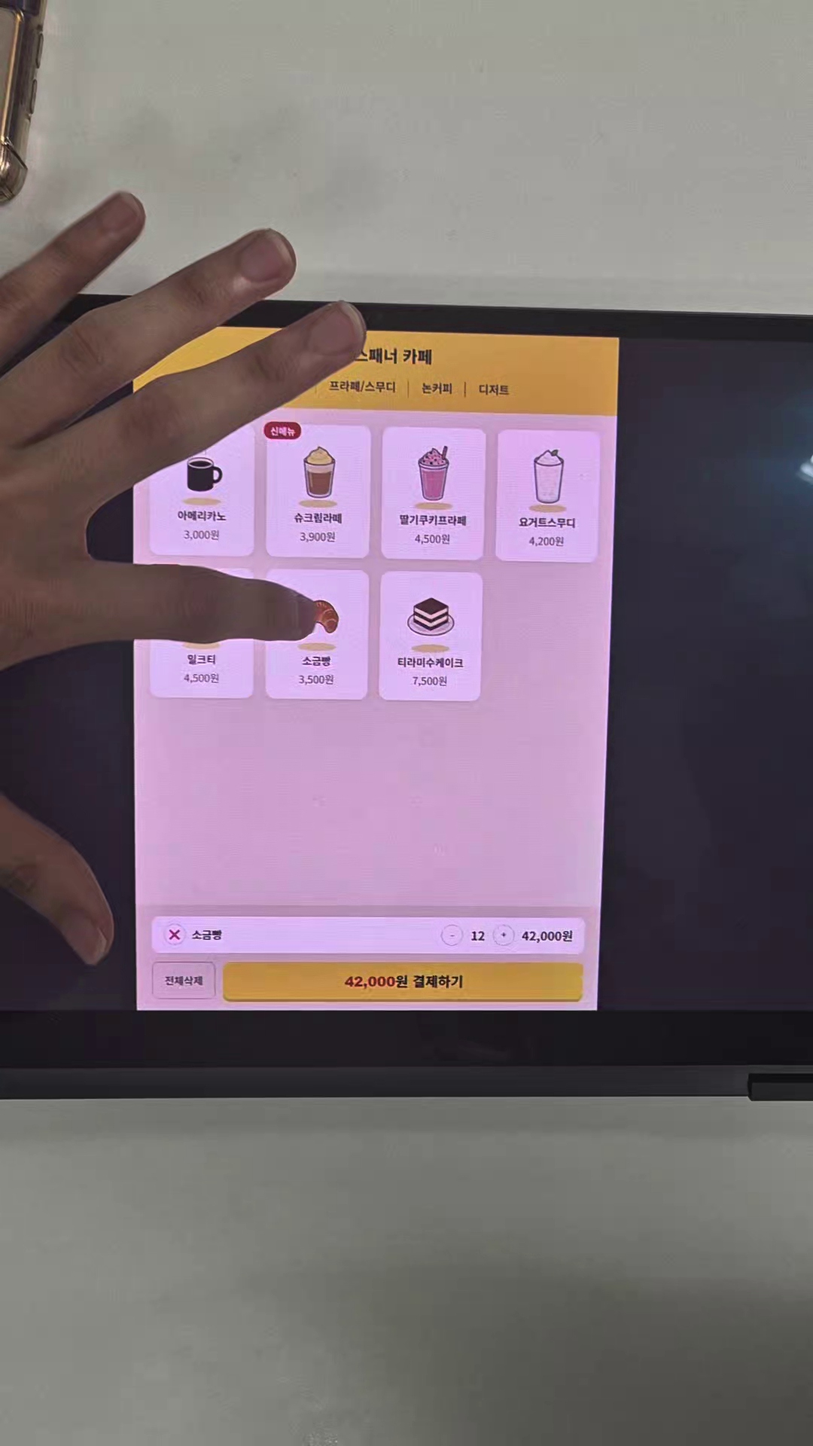action_button: (223, 961, 584, 1002), (152, 961, 216, 999)
cart_item: (150, 917, 585, 956)
category_tab: (327, 379, 397, 395), (421, 381, 452, 396), (478, 383, 510, 397)
menu_back: (265, 424, 371, 559), (149, 422, 255, 556), (494, 429, 600, 563), (381, 427, 486, 561), (265, 569, 370, 700), (150, 568, 254, 699), (379, 571, 483, 701)
menu_name: (395, 654, 465, 670), (398, 513, 467, 527), (517, 515, 577, 530), (176, 509, 227, 523), (294, 511, 343, 524), (301, 654, 333, 668), (186, 653, 217, 667)
menu_price: (297, 673, 336, 688), (410, 674, 449, 689), (182, 671, 220, 686), (182, 528, 220, 542), (298, 530, 336, 543), (527, 535, 565, 548), (414, 533, 451, 546)
